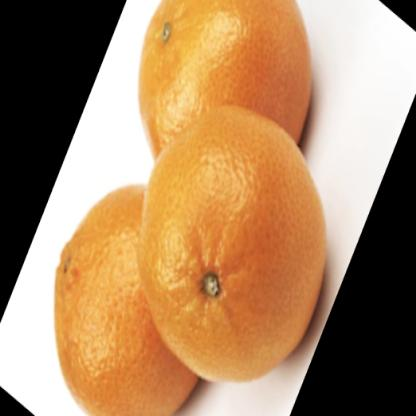fresh: (55, 1, 330, 416)
